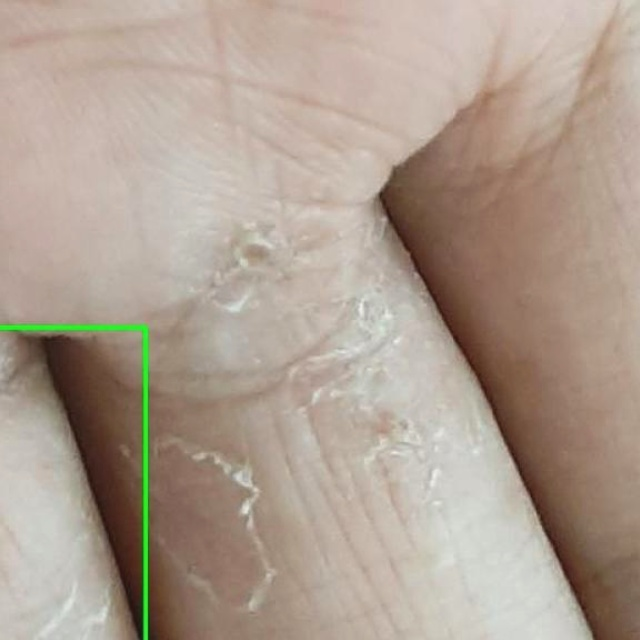Atopic Dermatitis: (0, 328, 146, 639)
